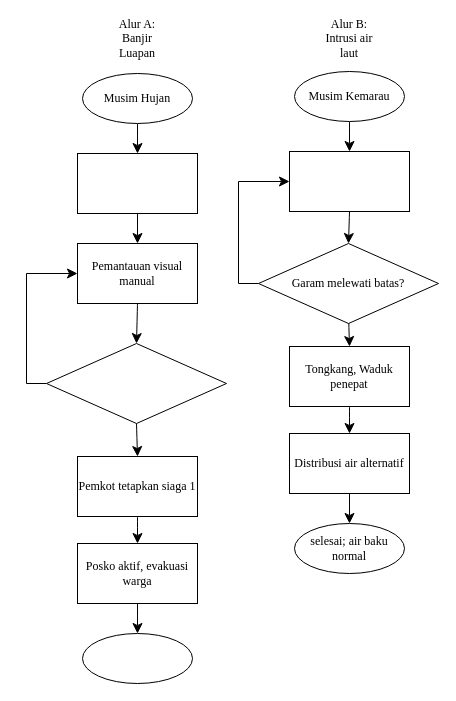
The diagram is 456 pixels wide and 701 high, and some of its shapes have lost their labels. Here are the shapes that lost their labels. From the top down, the centre of each, then its label:
At (x=137, y=183): "Prakiraan pasang BMKG".
At (x=349, y=181): "Cek kadar garam".
At (x=136, y=383): "Air masuk pemukiman?".
At (x=137, y=658): "selesai; air surut".
